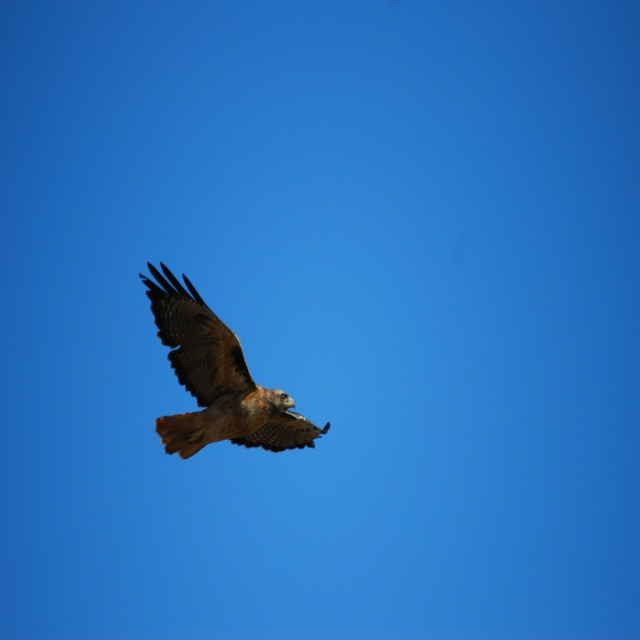Eagle: (135, 259, 335, 466)
